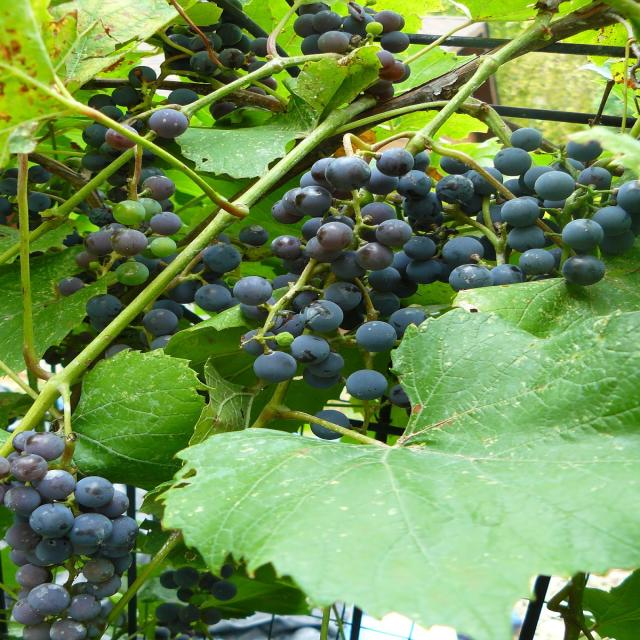grape: (53, 0, 632, 419), (0, 401, 162, 640)
